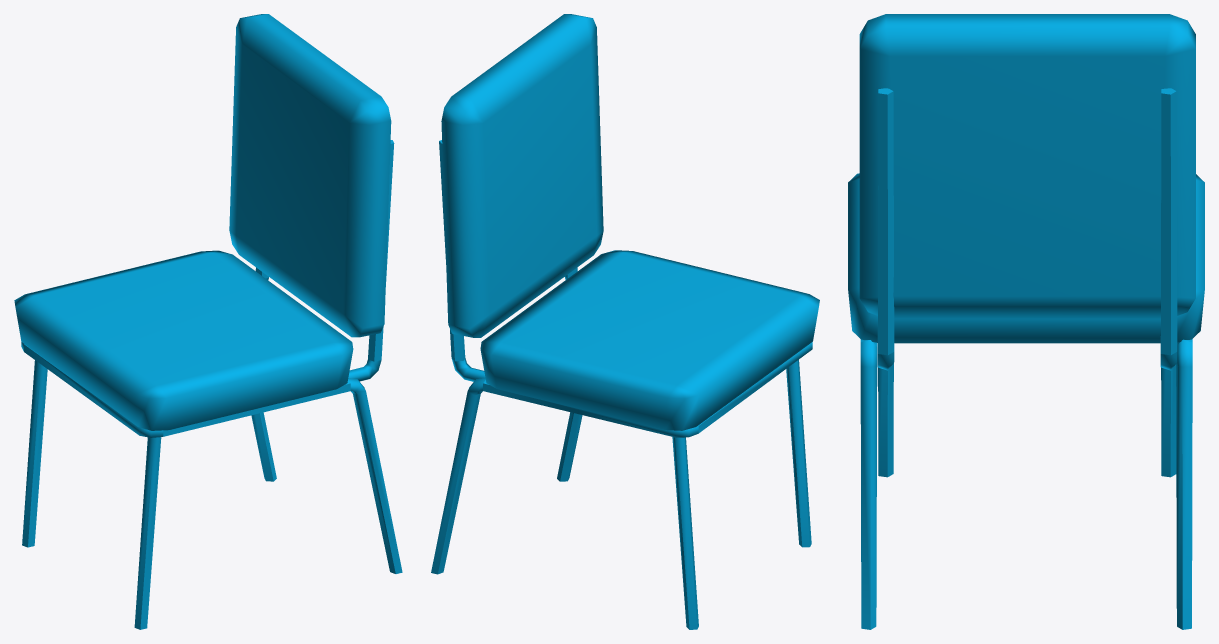
The model's file is Chair_02_Lod1.fbx.
3 views of the same model, side by side, from view 1: azimuth 30°, elevation 25°; view 2: azimuth 150°, elevation 25°; view 3: azimuth 270°, elevation 25° (orthographic). The views are drawn at different scales.
Visible parts, largest first — view 1: Chair_02_Lod1; view 2: Chair_02_Lod1; view 3: Chair_02_Lod1.
Part boxes in pixels (x1=…): Chair_02_Lod1: x1=14, y1=14, x2=402, y2=629; Chair_02_Lod1: x1=431, y1=14, x2=819, y2=629; Chair_02_Lod1: x1=848, y1=14, x2=1204, y2=629.
Bounding box in the file's own units: 52.13 × 89.29 × 48.54.
